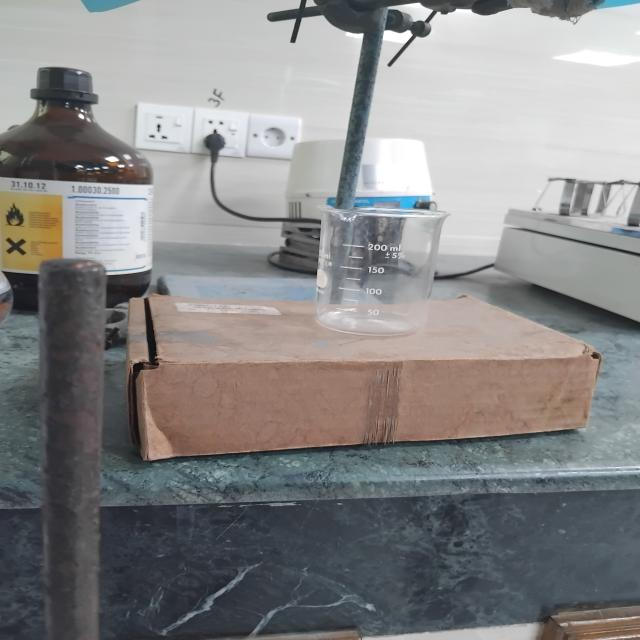Beaker: (284, 172, 484, 350)
